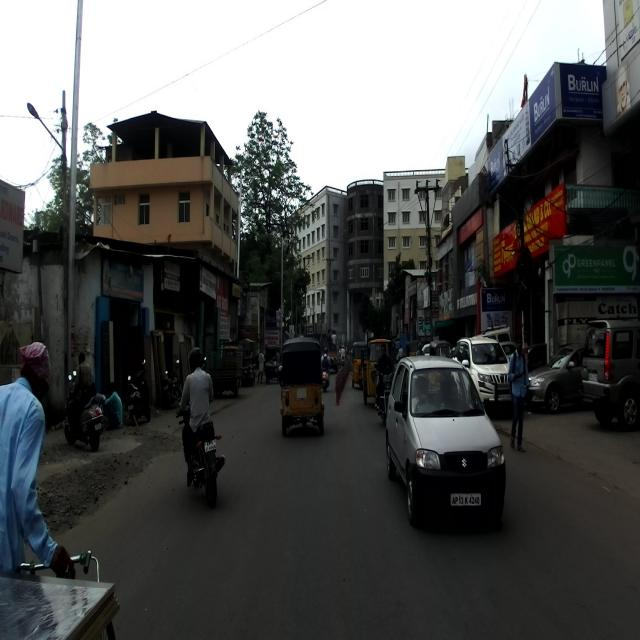Car: (524, 342, 591, 415)
Car_Mahindra: (579, 313, 640, 428), (452, 335, 517, 418)
Car_Maruti-Suzuki: (384, 354, 508, 523)
motorcycle_bajaj: (176, 401, 227, 506)
scooter: (61, 369, 105, 451)
